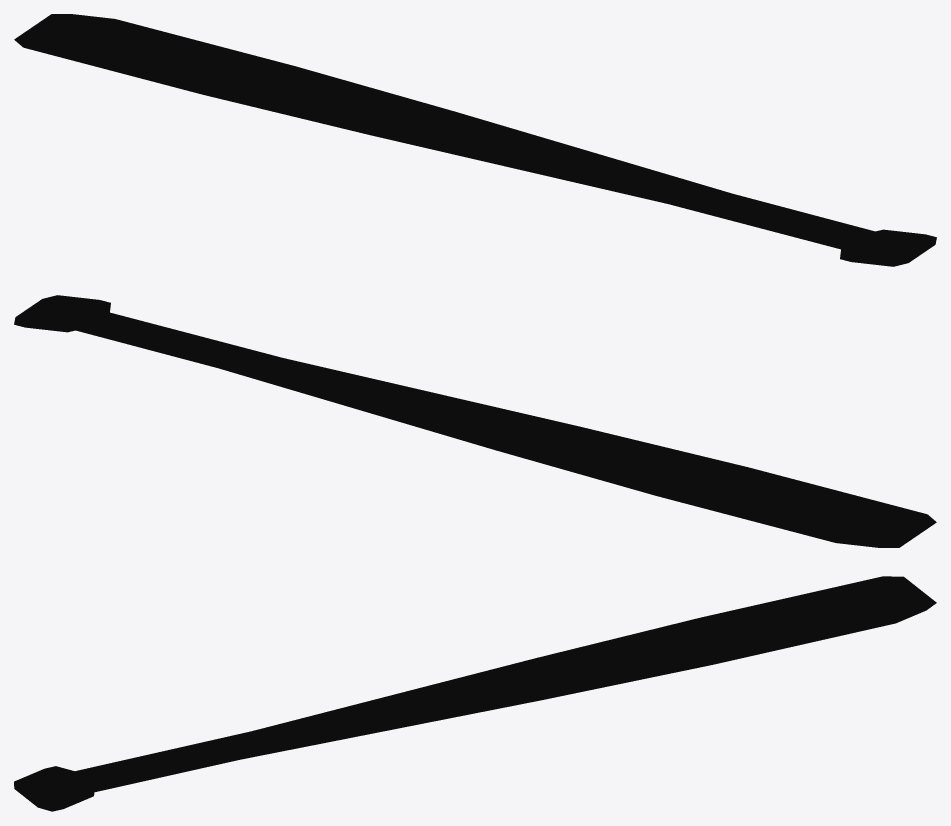
3 views of the same model, one above another, from view 1: azimuth 30°, elevation 25°; view 2: azimuth 210°, elevation 25°; view 3: azimuth 270°, elevation 25° (orthographic).
Visible parts, largest first — view 1: Joint_0_Object_0; view 2: Joint_0_Object_0; view 3: Joint_0_Object_0.
Part boxes in pixels (<box>): Joint_0_Object_0: <box>14,14,936,266</box>; Joint_0_Object_0: <box>14,295,936,547</box>; Joint_0_Object_0: <box>14,576,936,811</box>.
Size of the model in its own units: 910 by 0 by 1507.
1 material, 1 textured.
